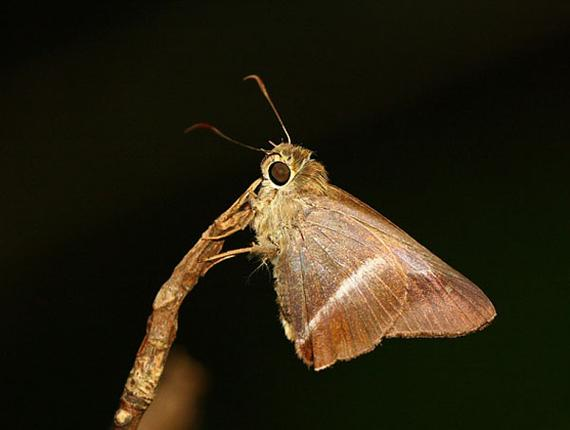Hesperiidae: (182, 71, 487, 384)
